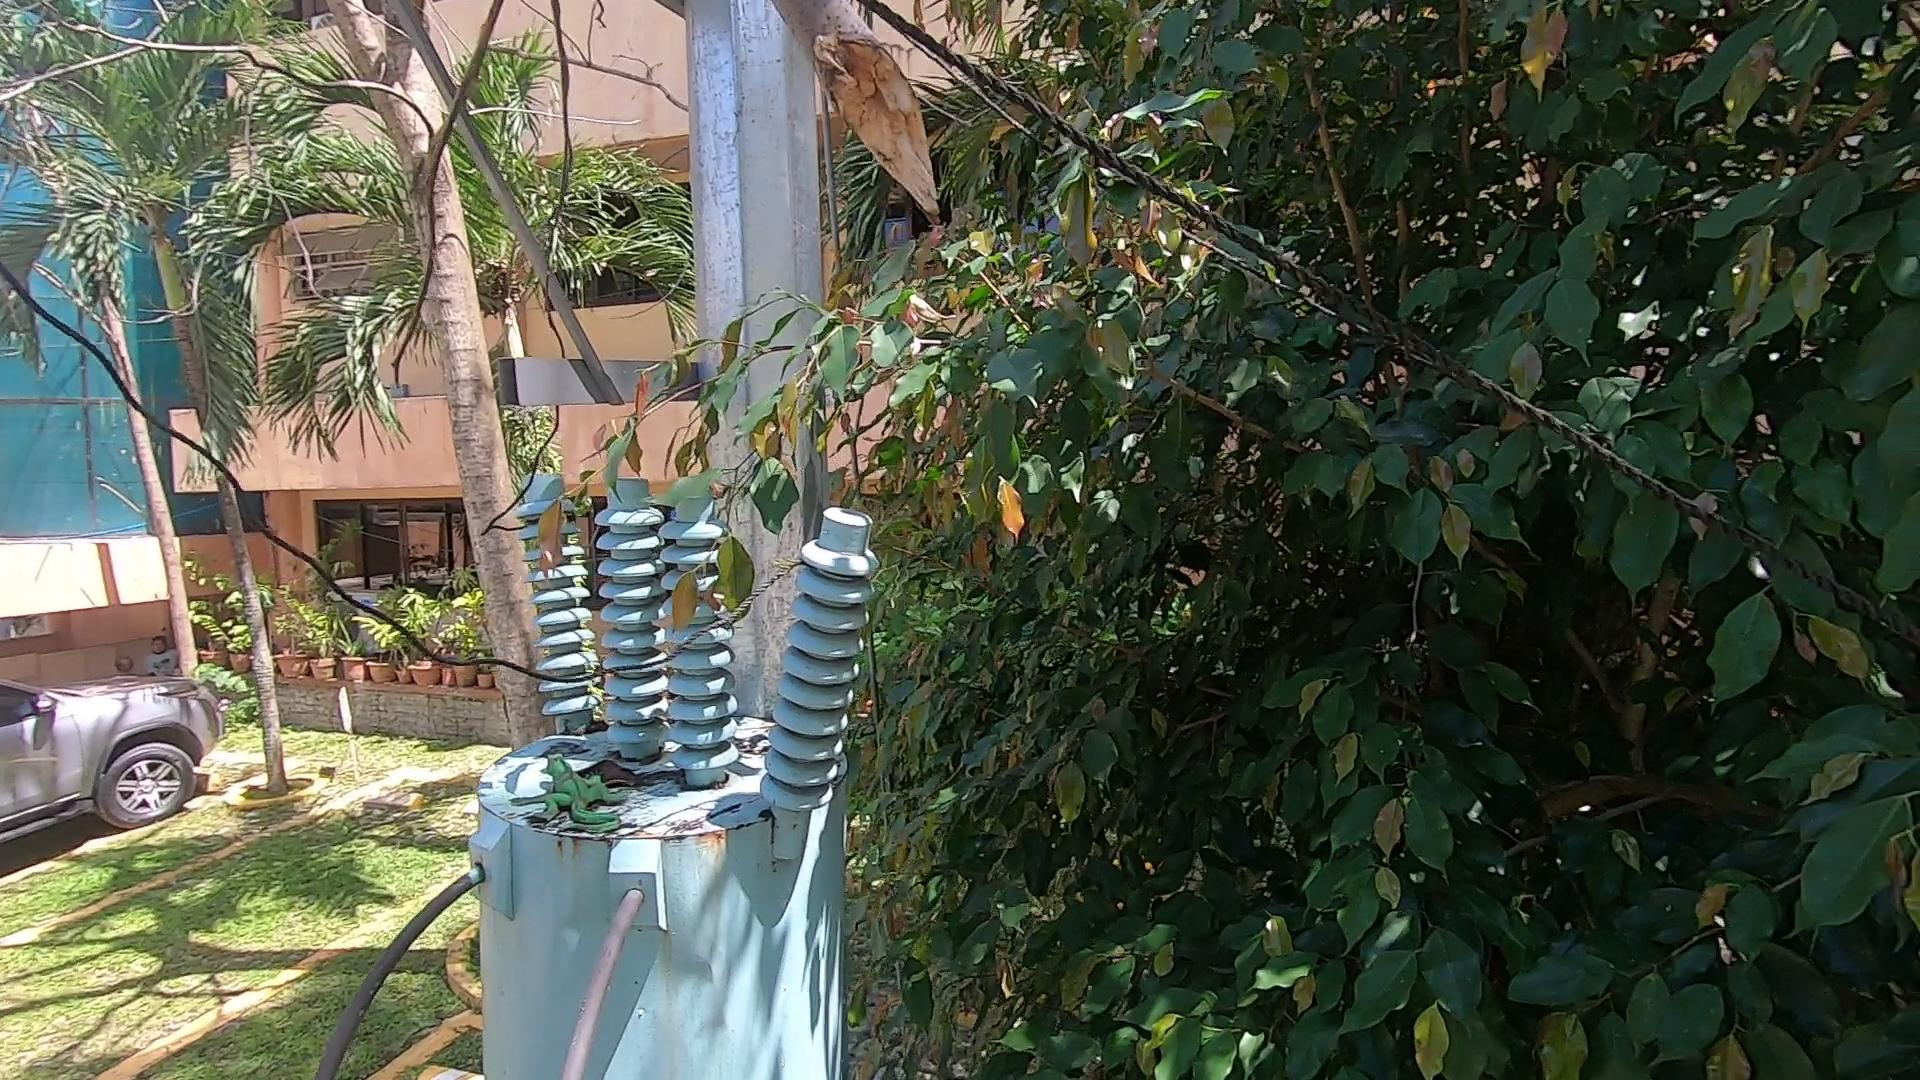branch with leaves: (524, 334, 814, 644)
leaf: (583, 757, 691, 803), (733, 728, 764, 770), (568, 716, 612, 740)
tree branch: (753, 7, 968, 249)
